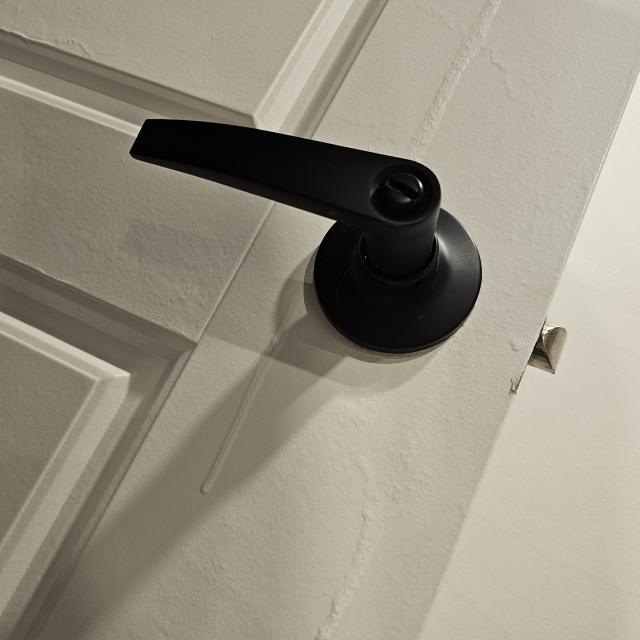door-handle: (130, 120, 481, 354)
